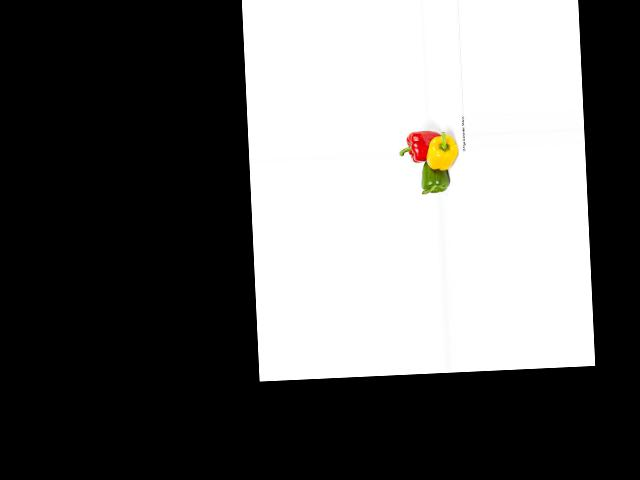bell_pepper: (398, 127, 440, 164)
